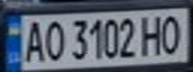0: (103, 15, 121, 60)
1: (84, 16, 106, 60)
2: (118, 13, 142, 60)
3: (66, 16, 87, 61)
A: (18, 18, 48, 63)
H: (136, 11, 166, 56)
O: (157, 11, 187, 56), (39, 17, 66, 63)
